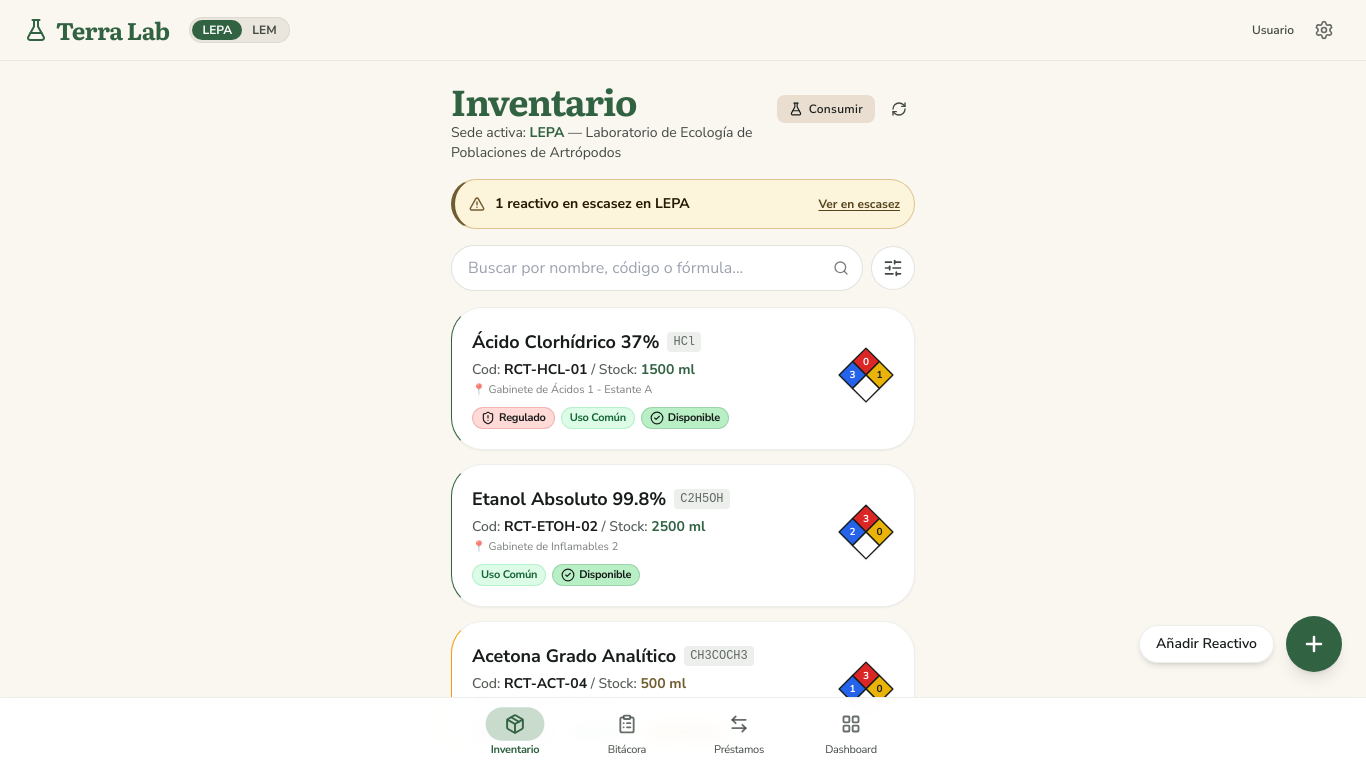
Test: InventoryView Component › opens detail modal when clicking a reagent card
Click the heading "Ácido Clorhídrico 37%" at [566, 342], box [472, 328, 659, 356]
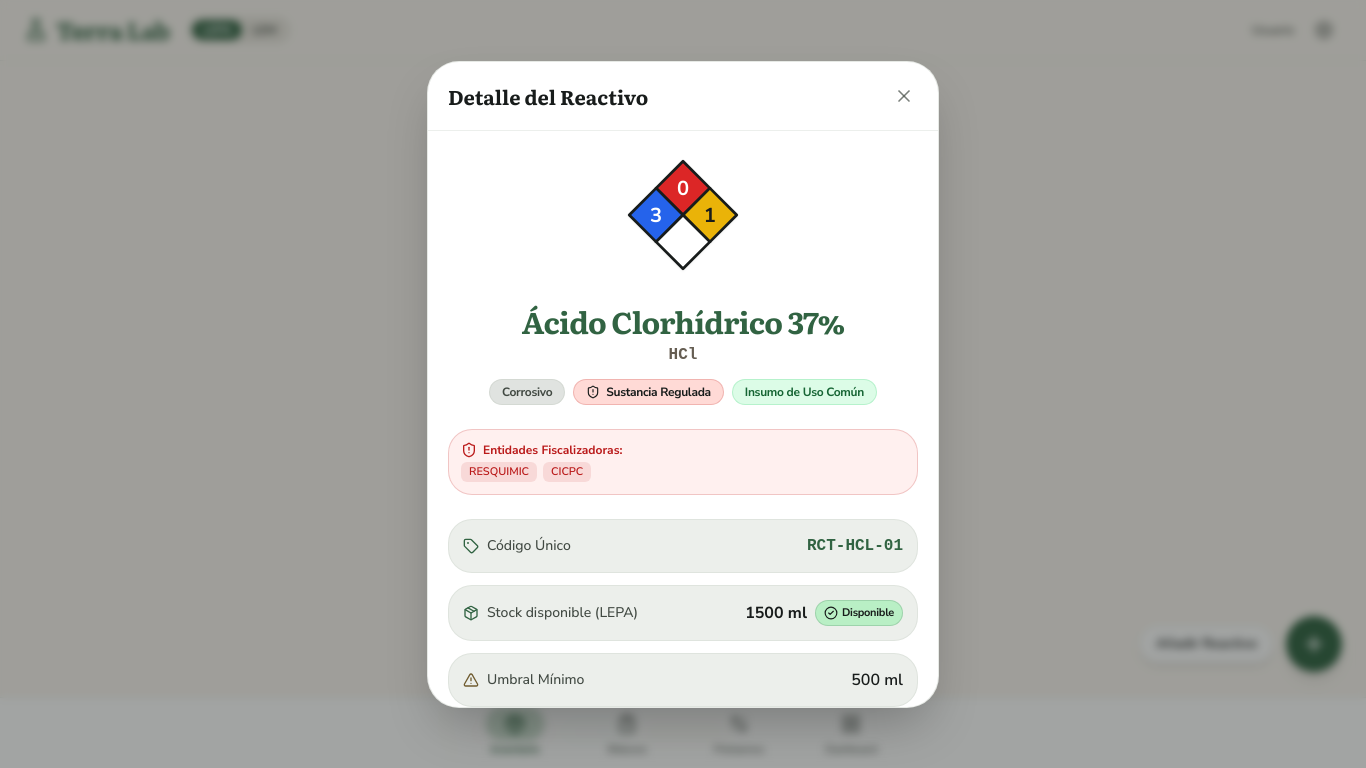
Expected: the heading "Detalle del Reactivo" is shown, [448, 82, 648, 110]
Expected: the text "Código Único" is shown, [463, 536, 571, 556]
Expected: the text "Stock disponible (LEPA)" is shown, [463, 602, 638, 622]
